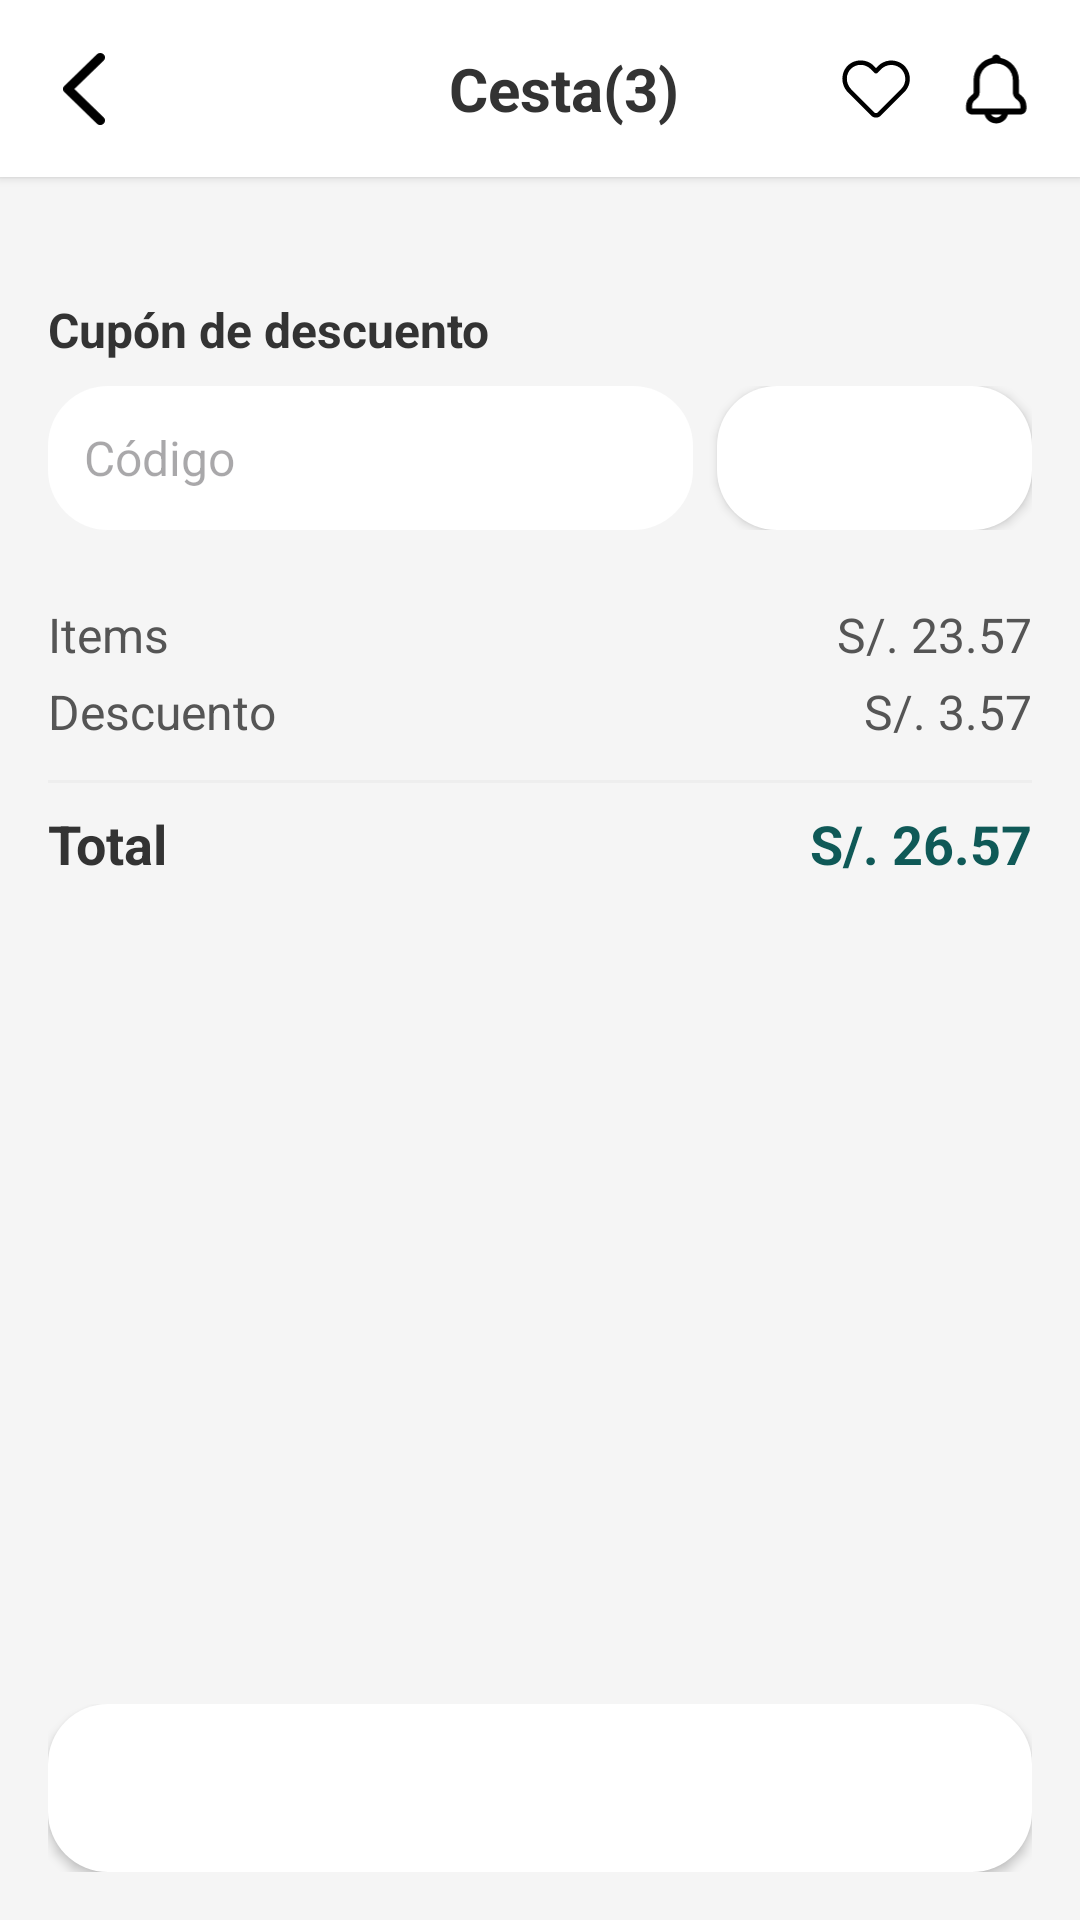

Icon click points for this 1080px x 1920px phone screenshot, format (x,y):
favorite: (876,89)
left arrow: (84,89)
notify: (996,89)
